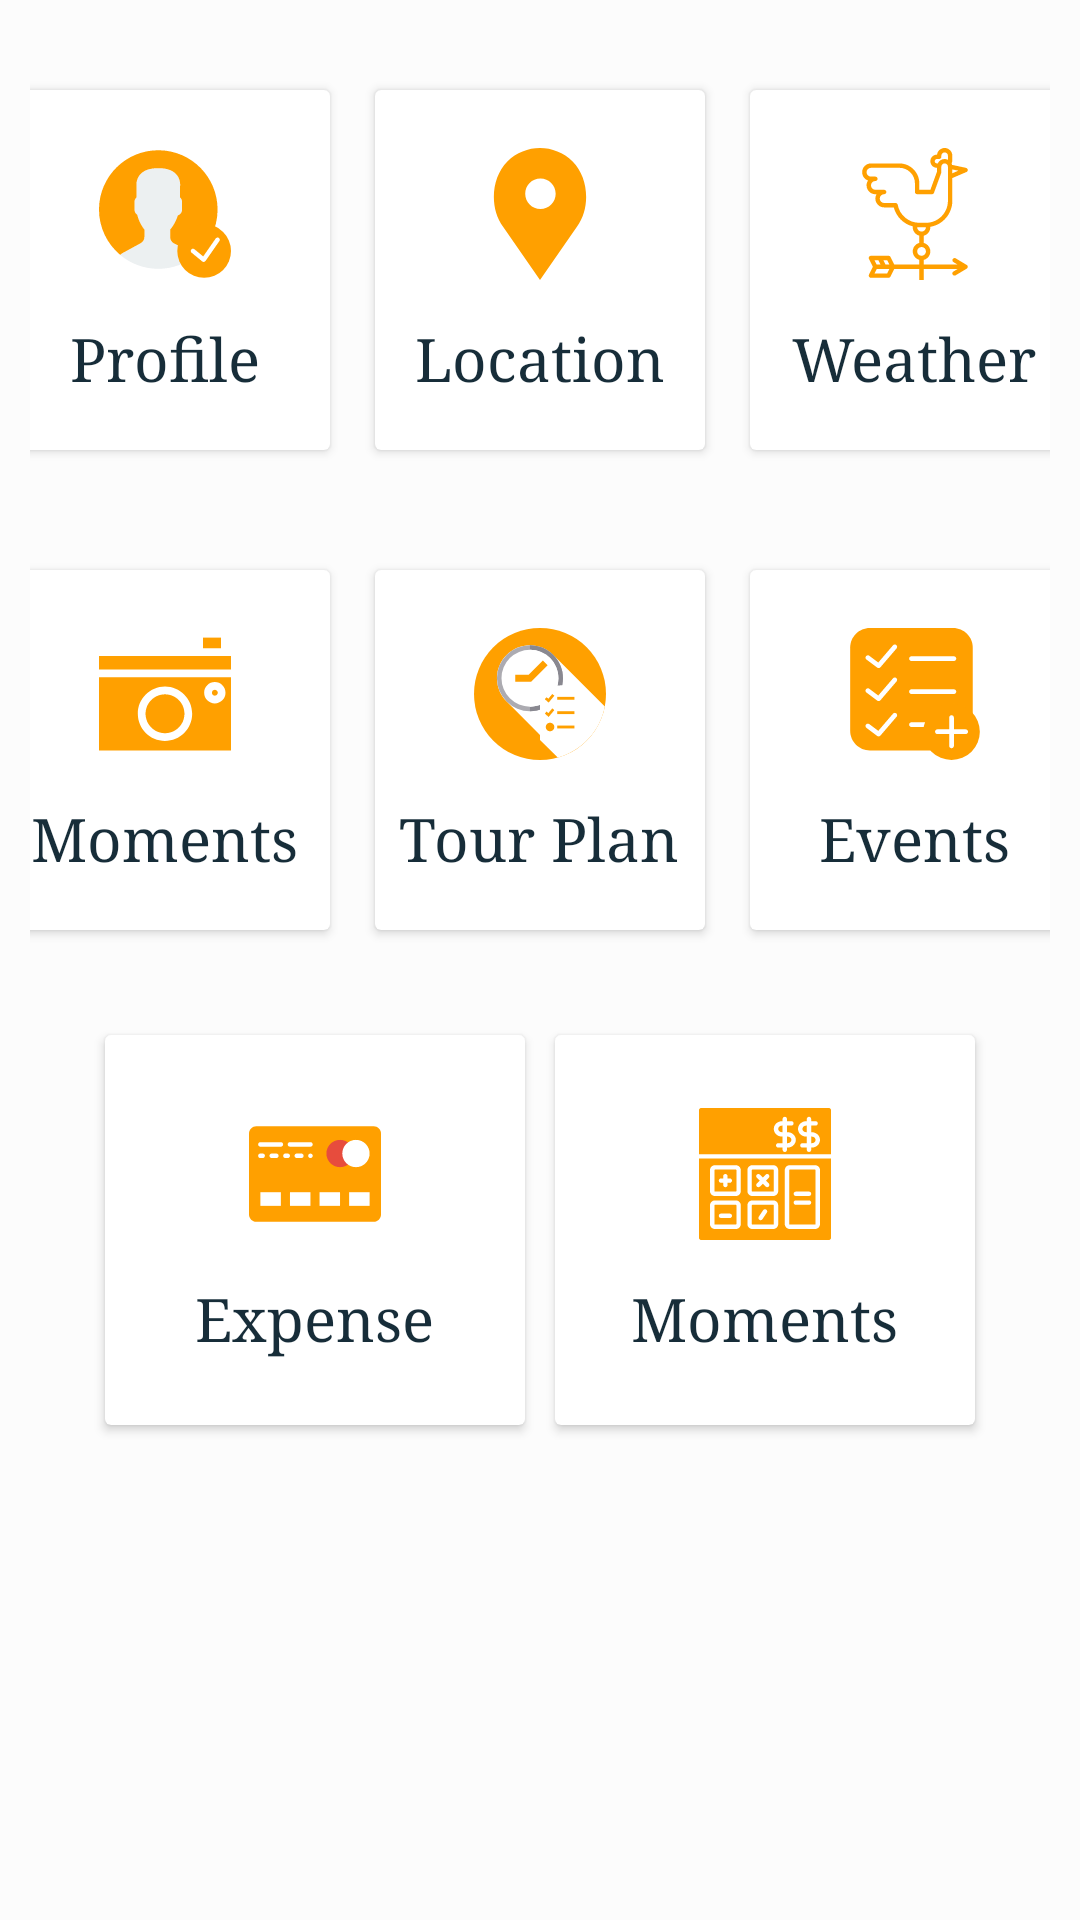

Screen size 1080×1920. Icon name, then its box in pixels as (x1, y1, x2, y2):
budget: (699, 1108, 831, 1240)
credit card: (249, 1126, 381, 1222)
list: (850, 628, 980, 760)
photo camera: (99, 637, 231, 751)
timeline: (474, 628, 606, 760)
user: (99, 150, 231, 278)
